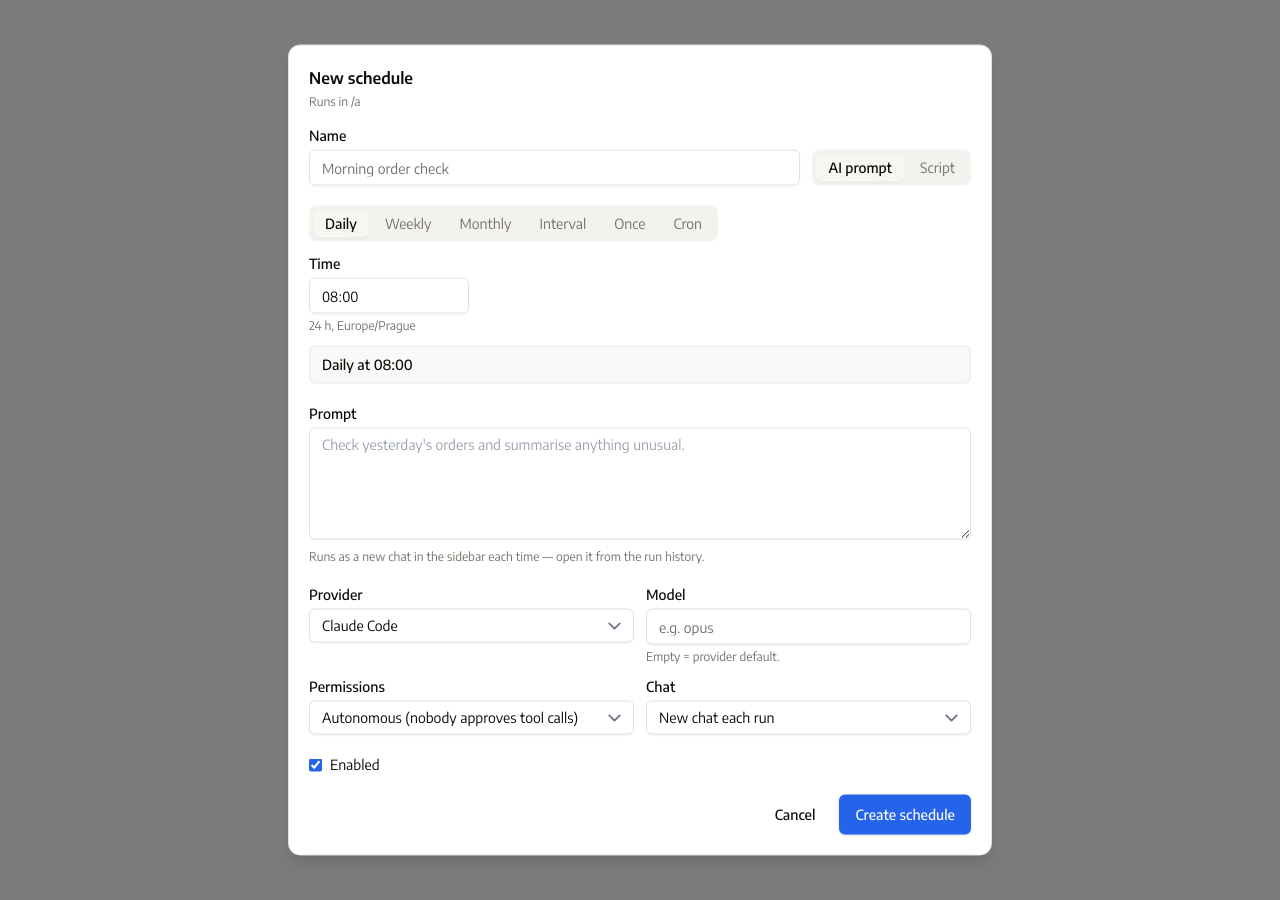
Scenario: a one-time date in the past is refused in the form
Type "Jednou" into the field labelled "Name". click: (555, 168)
box: [309,150,800,186]
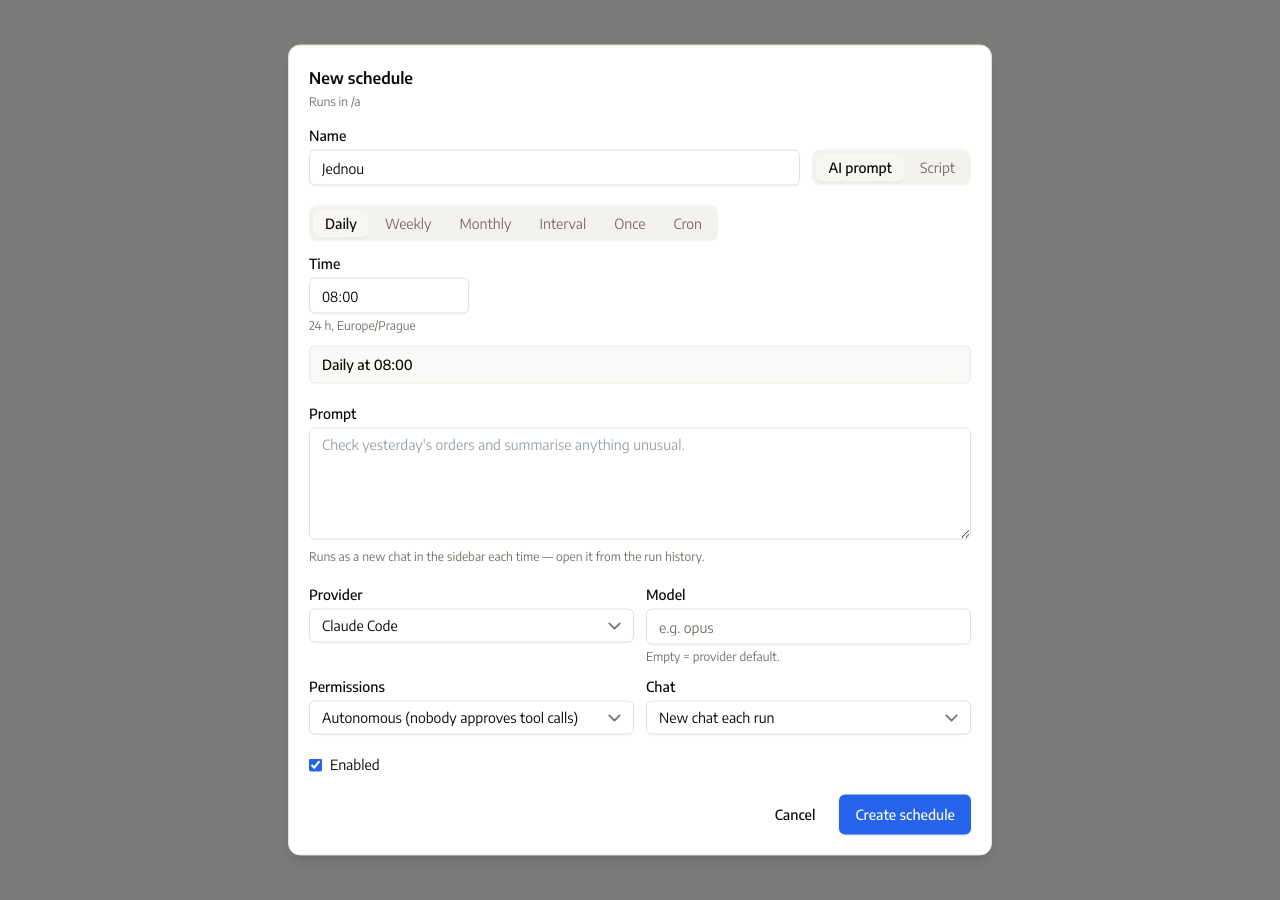
Type "p" into the text box labelled "Prompt". click: (640, 484)
box: [309,428,971,540]
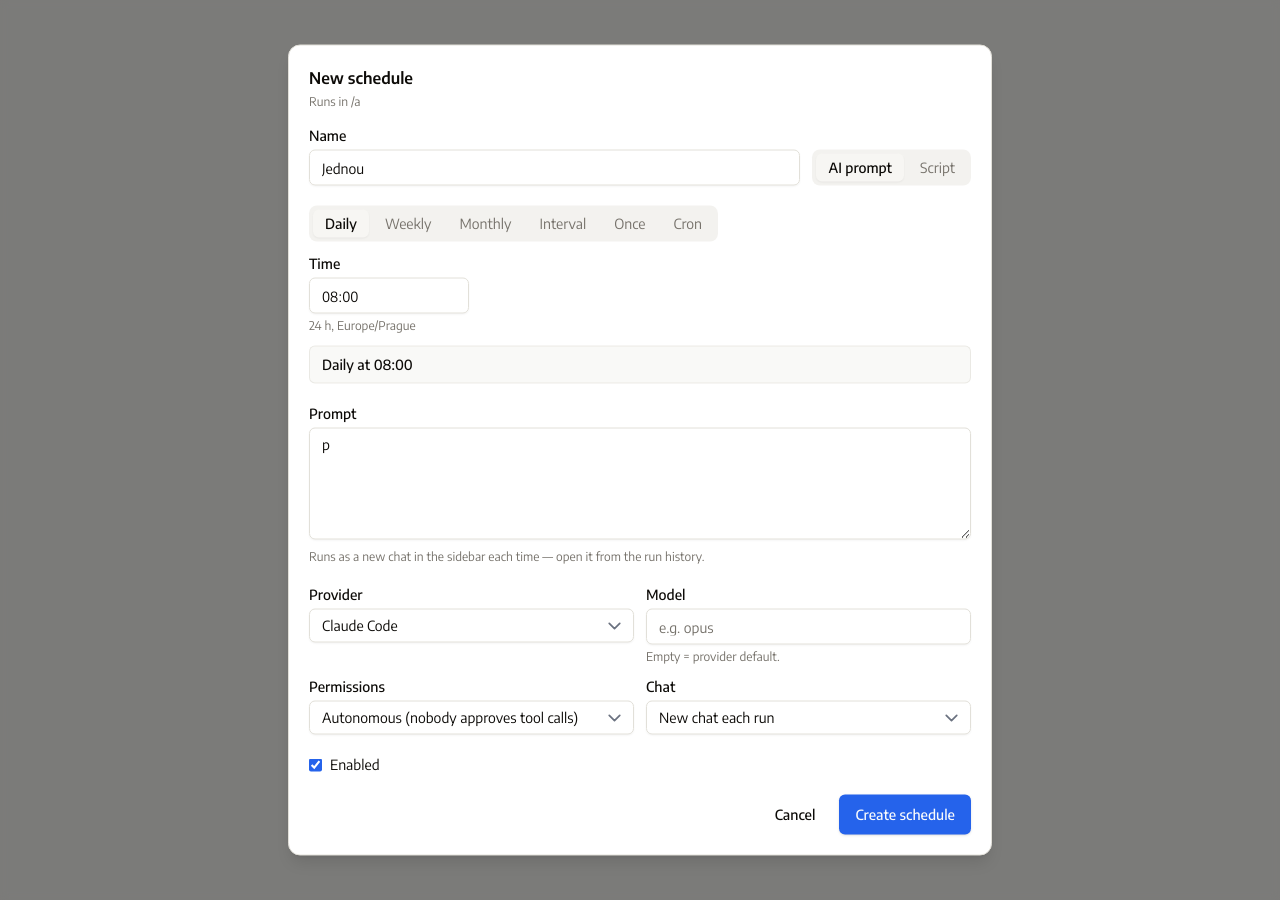
Click the radio button labelled "Once". click: (630, 224)
box: [602,210,658,238]
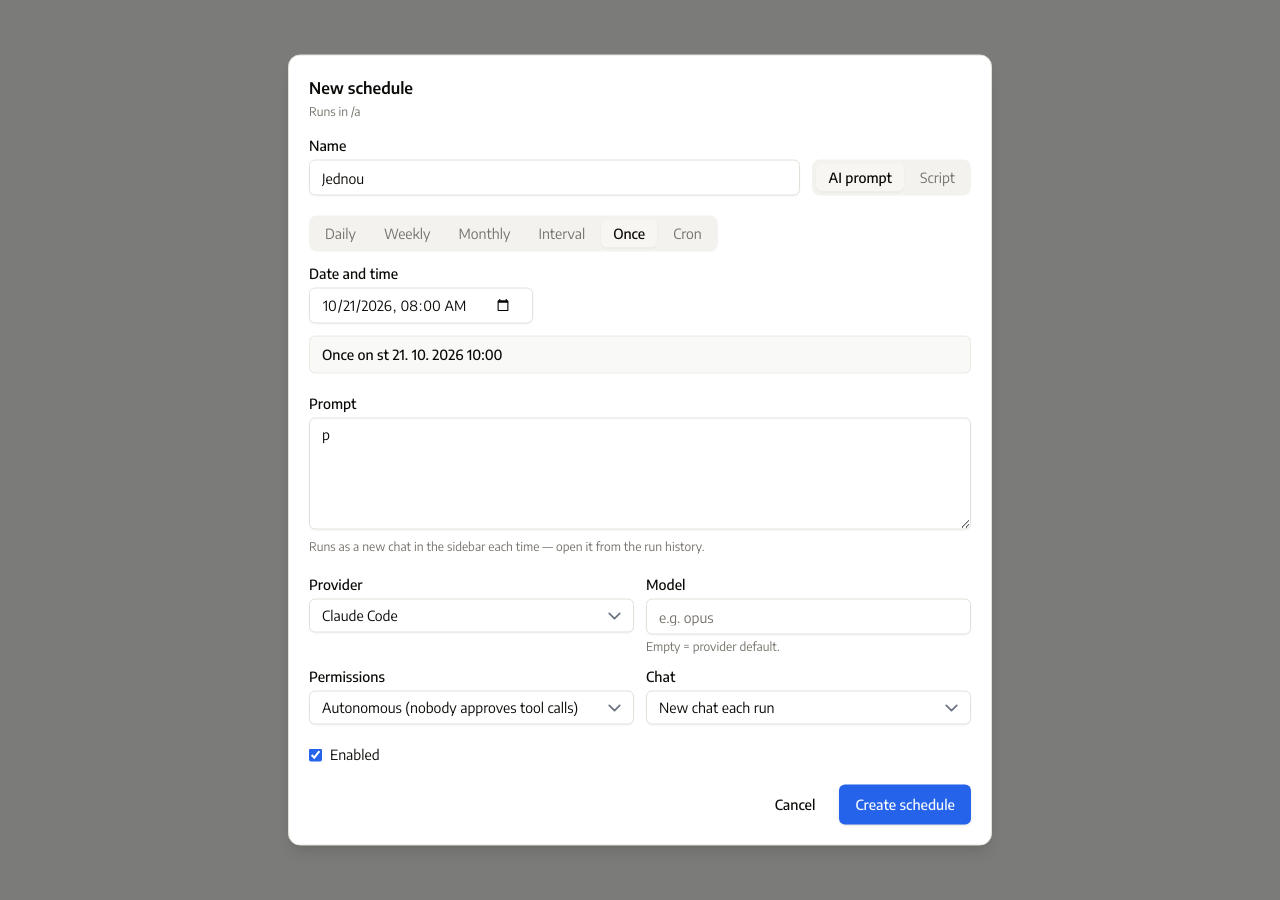
Replace the text in the field labelled "Date and time" with "2020-01-01T08:00". click: (421, 306)
box: [309,288,533,324]
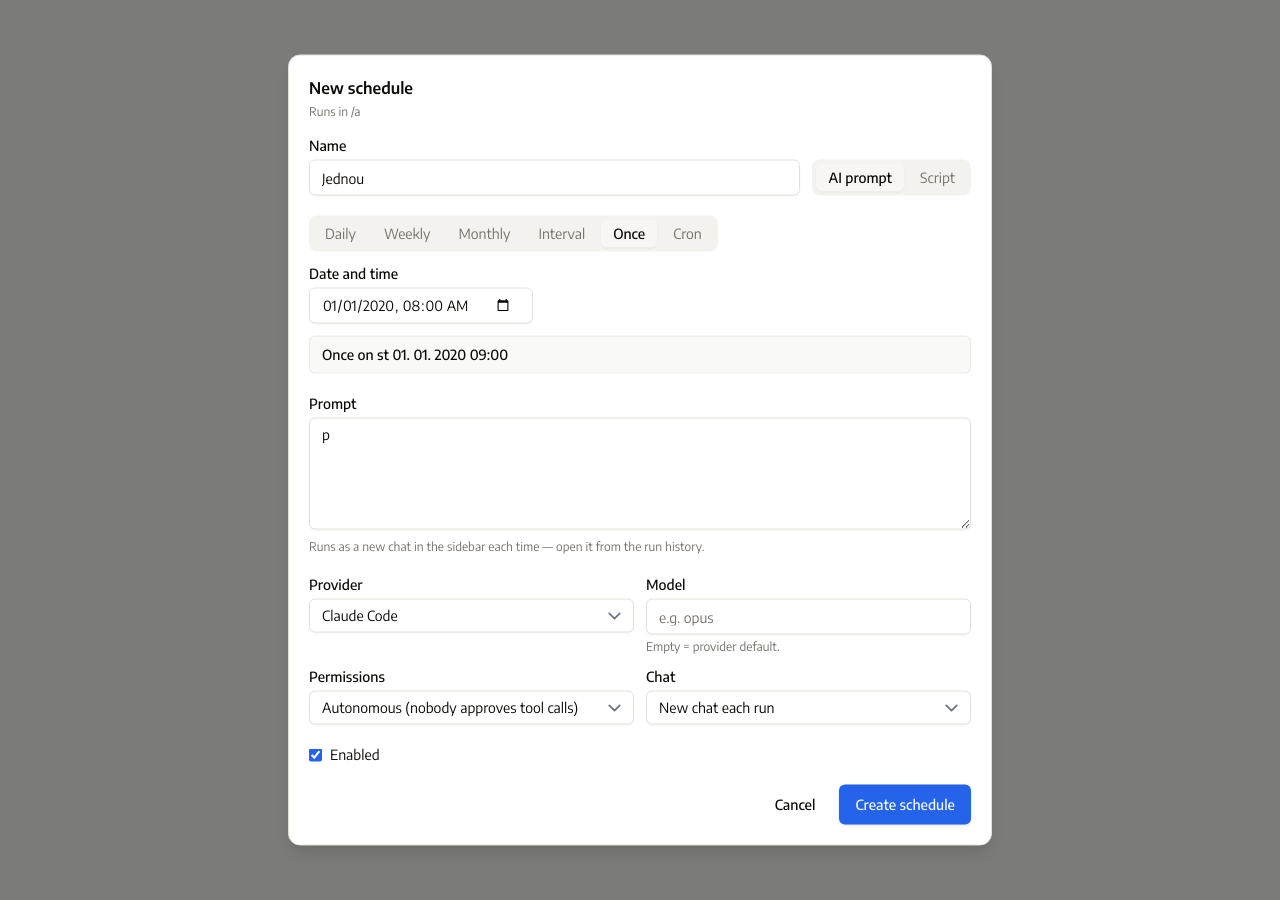
Click the button "Create schedule". click: (905, 804)
box: [840,784,971,824]
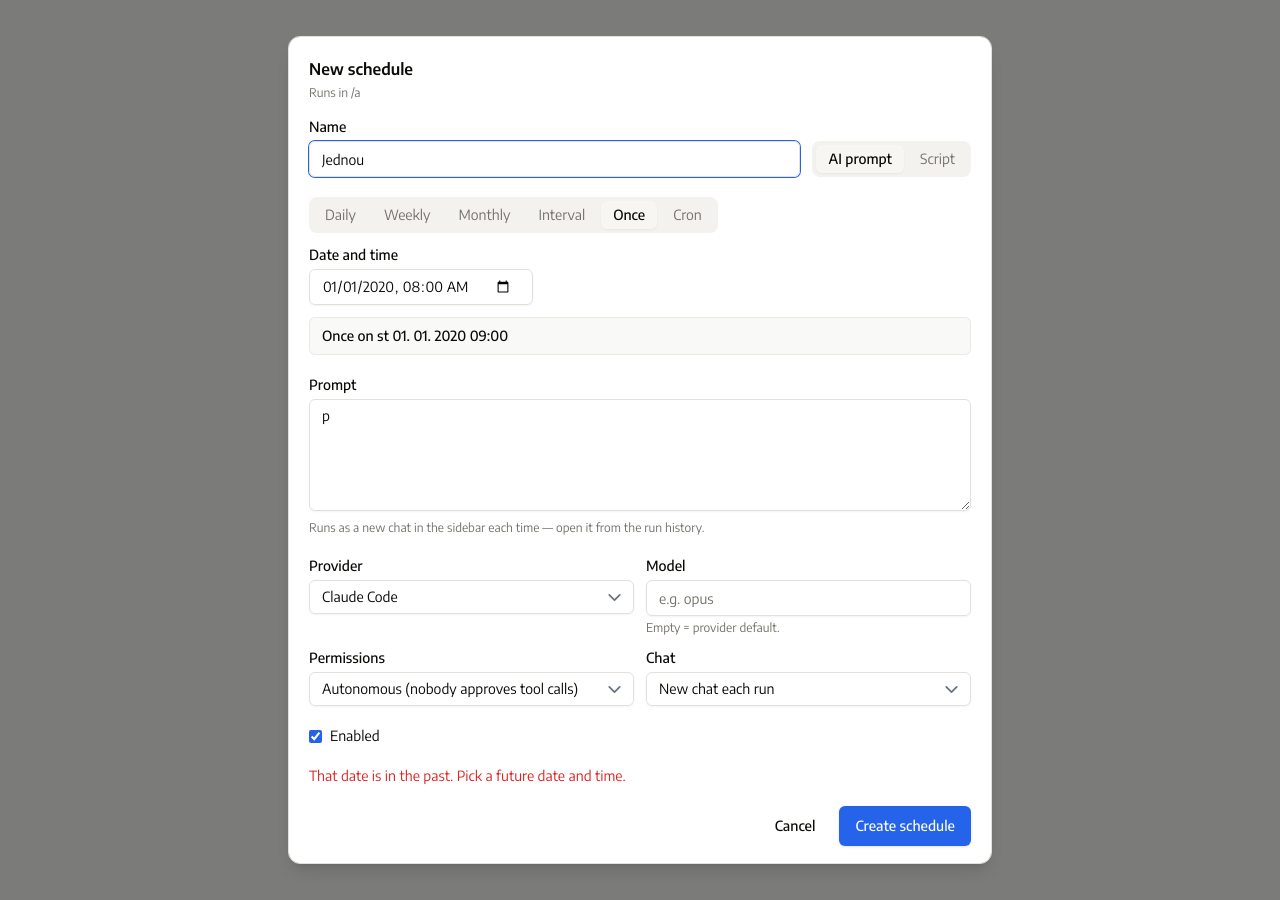
Expected: the text "That date is in the past. Pick a future date and time." is shown, [309,767,626,784]
